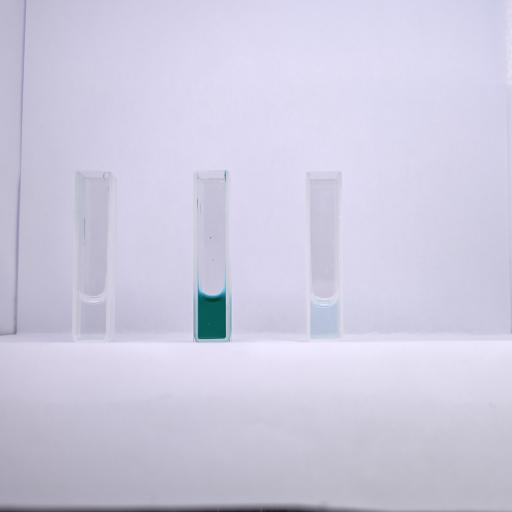cuvette: (70, 168, 114, 346), (191, 169, 234, 346), (304, 168, 345, 346)
liquid: (198, 292, 226, 340), (79, 294, 105, 338), (310, 297, 338, 337)
